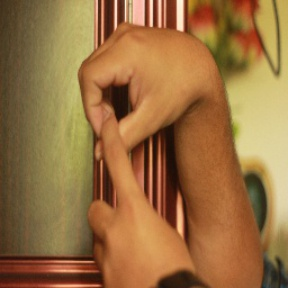Q: (72, 21, 216, 259)
